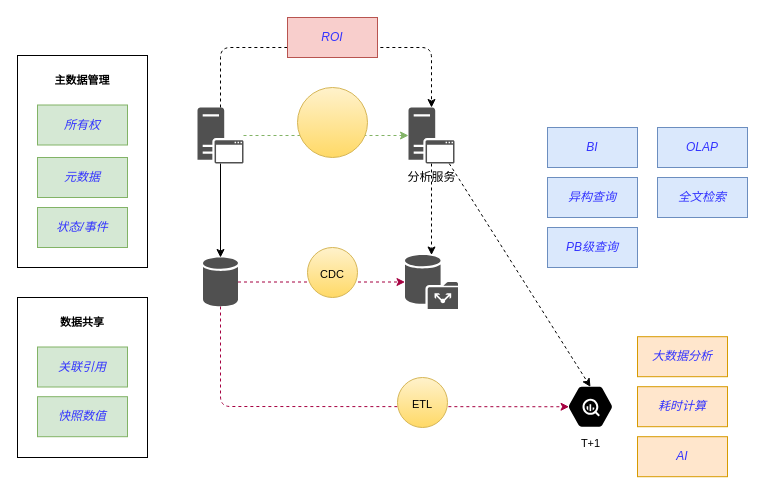
This 765x495 diagram has some shape labels left out. The shapes that lost their labels are listed below. From the top down, each one's centre as x and y in pixels, then its label:
At (x=220, y=135): "核心服务".
At (x=332, y=122): "MQ API/RPC File".
At (x=220, y=281): "事务数据".
At (x=431, y=281): "T+0".
